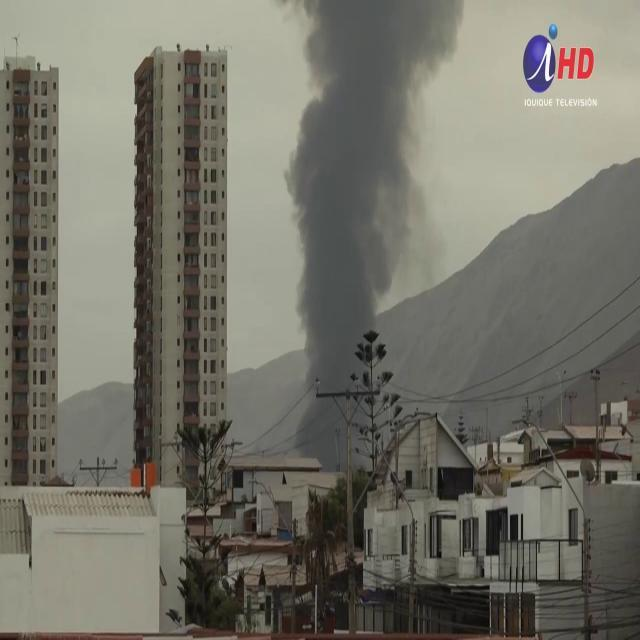Smoke: (280, 1, 454, 397)
